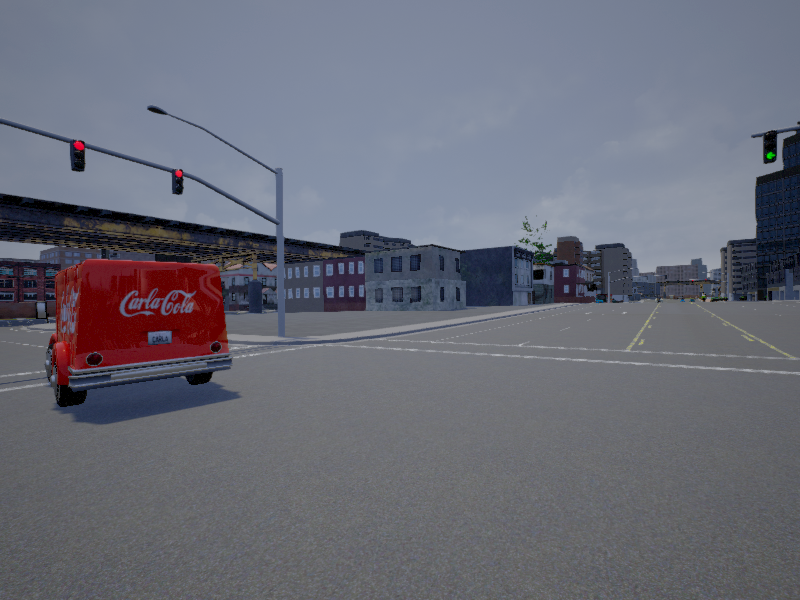Benign: (44, 258, 231, 408)
